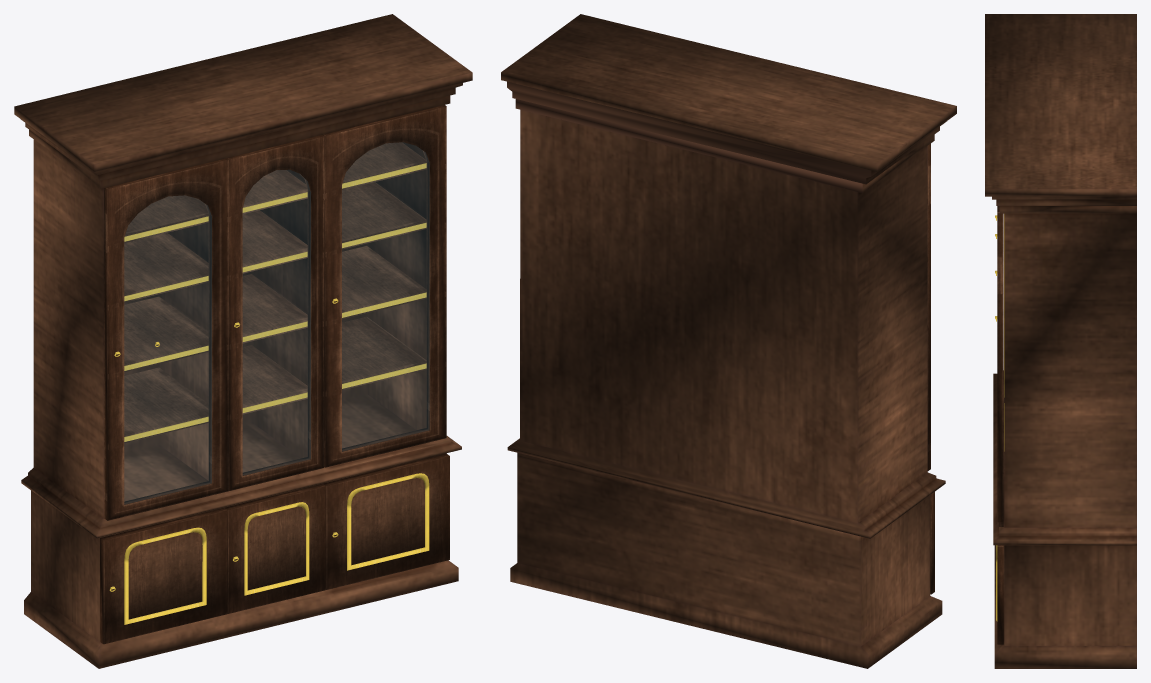
Rendered from cupboard.glb.
3 renders of one model, left to right at view 1: azimuth 30°, elevation 25°; view 2: azimuth 150°, elevation 25°; view 3: azimuth 270°, elevation 25°, orthographic. The views are drawn at different scales.
Parts seen in each view (by area): view 1: Cupboard_low; view 2: Cupboard_low; view 3: Cupboard_low.
Part boxes in pixels (bbox=[...]): Cupboard_low: bbox=[14, 14, 472, 668]; Cupboard_low: bbox=[501, 14, 956, 668]; Cupboard_low: bbox=[985, 14, 1136, 668].
Size of the model in its own units: 0.6246 by 0.8046 by 0.2289.
Materials: 3 (3 with a texture image).
